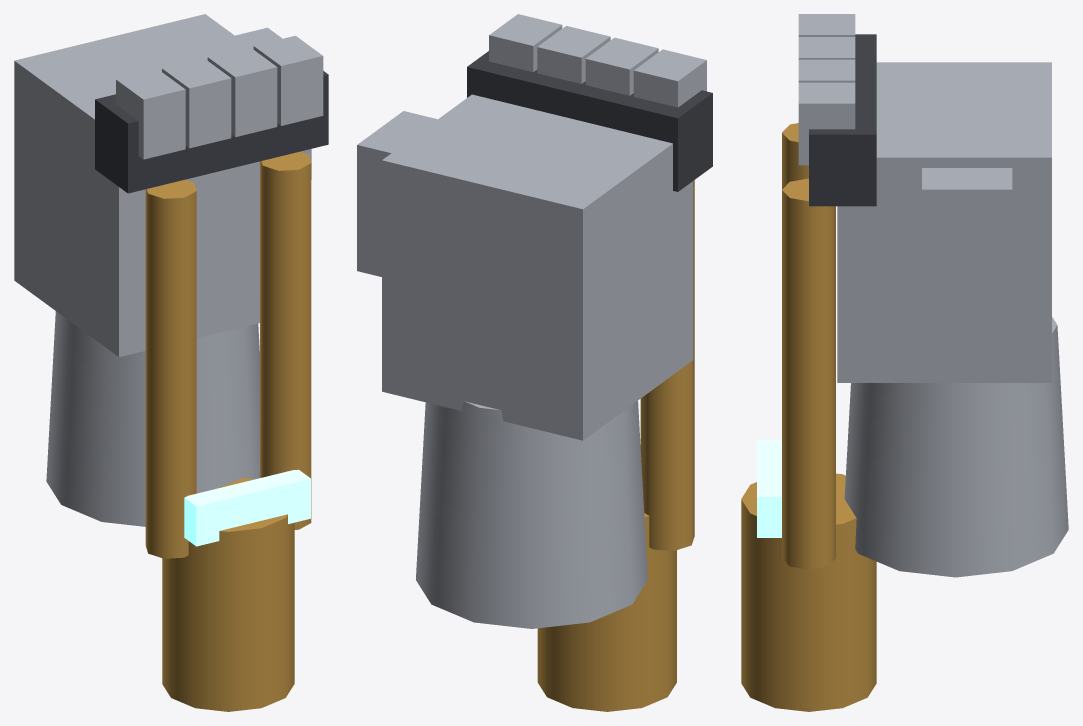
File: pressure_fist_left.glb
3 renders of one model, left to right at view 1: azimuth 30°, elevation 25°; view 2: azimuth 150°, elevation 25°; view 3: azimuth 270°, elevation 25°, orthographic. The views are drawn at different scales.
Parts seen in each view (by area): view 1: PressureFist_L_Shell, PressureFist_L_Pistons, PressureFist_L_Trim, PressureFist_L_Glow; view 2: PressureFist_L_Shell, PressureFist_L_Pistons, PressureFist_L_Trim; view 3: PressureFist_L_Shell, PressureFist_L_Pistons, PressureFist_L_Trim, PressureFist_L_Glow.
Boxes of the visible parts, <box> form: PressureFist_L_Shell: <box>14,14,323,526</box>; PressureFist_L_Pistons: <box>145,151,311,711</box>; PressureFist_L_Trim: <box>95,71,328,193</box>; PressureFist_L_Glow: <box>184,469,310,546</box>; PressureFist_L_Shell: <box>357,14,706,628</box>; PressureFist_L_Pistons: <box>537,180,694,711</box>; PressureFist_L_Trim: <box>467,51,712,191</box>; PressureFist_L_Shell: <box>798,14,1068,577</box>; PressureFist_L_Pistons: <box>741,123,876,711</box>; PressureFist_L_Trim: <box>809,34,876,206</box>; PressureFist_L_Glow: <box>757,439,781,537</box>.
Bounding box in the file's own units: 0.125 × 0.305 × 0.145.
